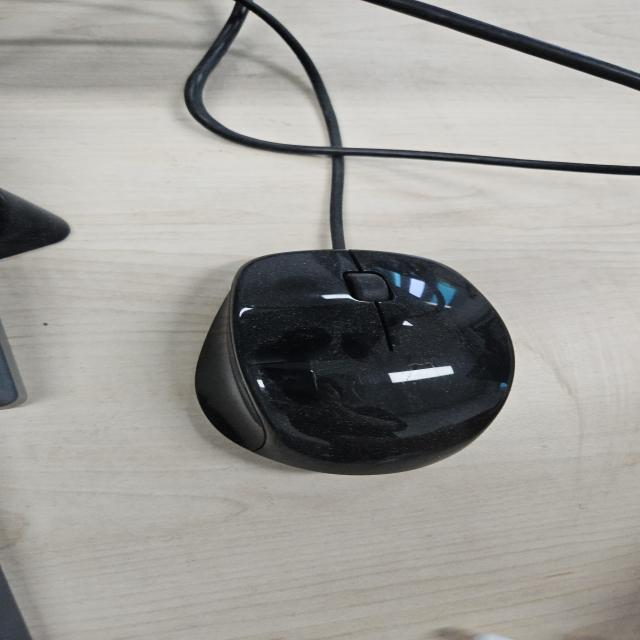Mouse: (191, 247, 518, 476)
